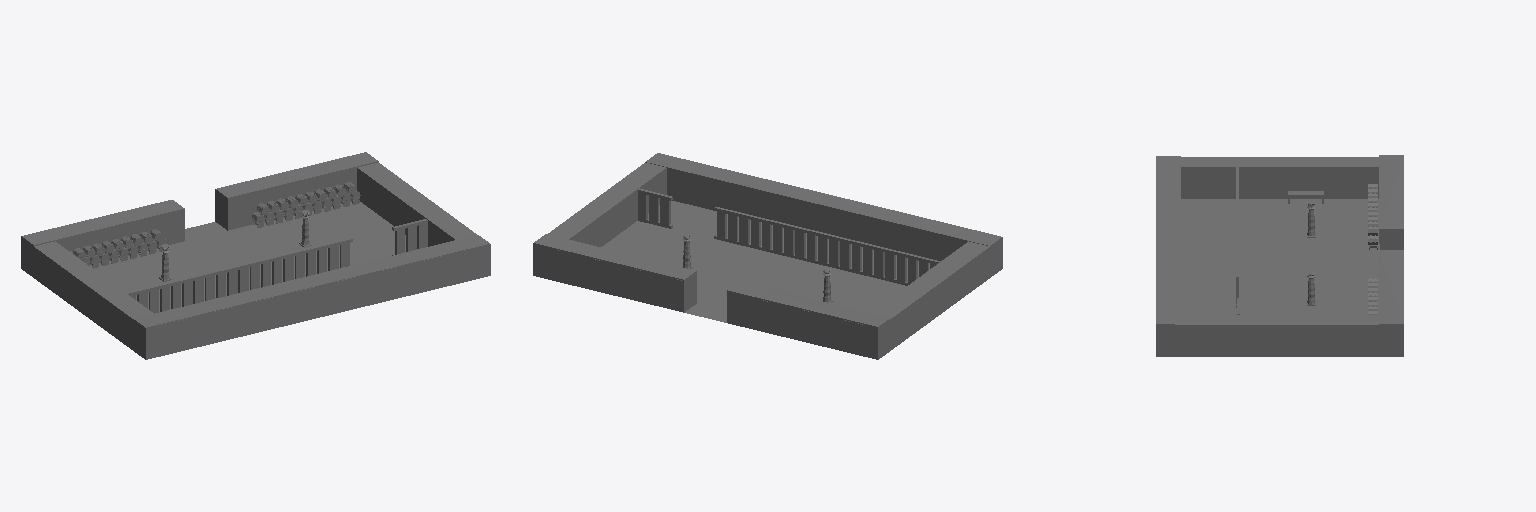
Rendered from hbntwo.obj.
3 views of the same model, side by side, from view 1: azimuth 30°, elevation 25°; view 2: azimuth 150°, elevation 25°; view 3: azimuth 270°, elevation 25° (orthographic).
Visible parts, largest first — view 1: room, collision; view 2: room, collision; view 3: room, collision.
Part boxes in pixels (left/top/right/bottom): room: left=23, top=168, right=488, bottom=359; collision: left=21, top=152, right=490, bottom=359; room: left=535, top=168, right=1000, bottom=359; collision: left=533, top=153, right=1002, bottom=355; room: left=1156, top=167, right=1403, bottom=356; collision: left=1156, top=155, right=1403, bottom=356.
Size of the model in its own units: 80 by 7.39 by 50.